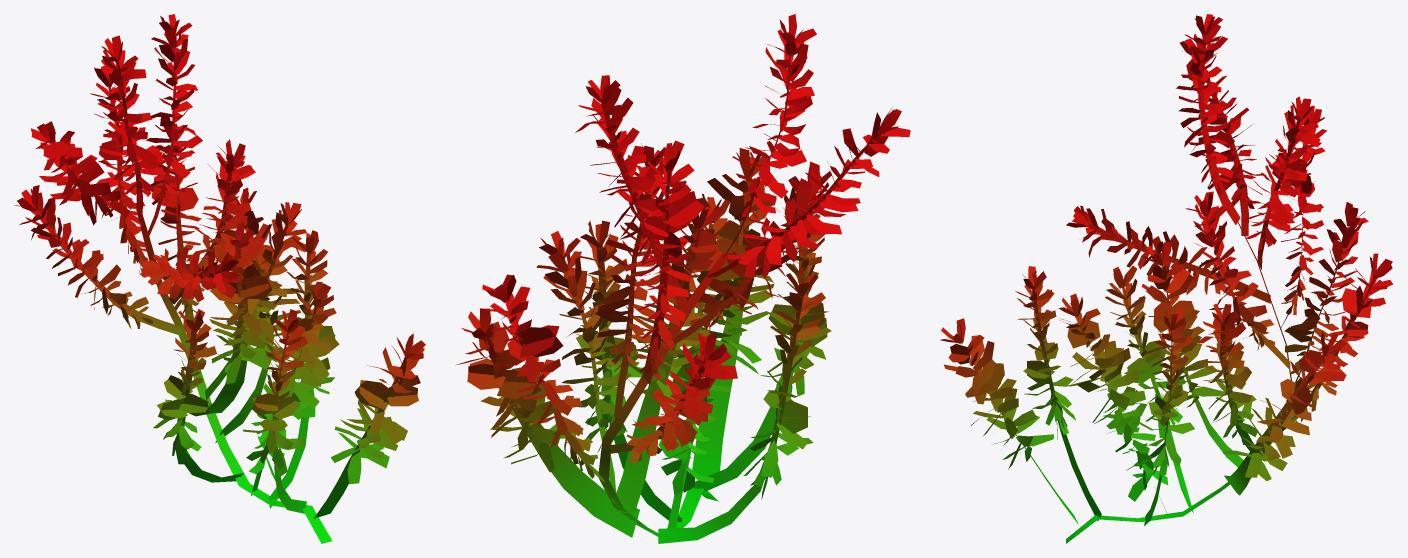
Rendered from Var1_LOD2.fbx.
3 views of the same model, side by side, from view 1: azimuth 30°, elevation 25°; view 2: azimuth 150°, elevation 25°; view 3: azimuth 270°, elevation 25° (orthographic). The views are drawn at different scales.
Parts seen in each view (by area): view 1: _eq5g_Var1_LOD2; view 2: _eq5g_Var1_LOD2; view 3: _eq5g_Var1_LOD2.
Part boxes in pixels (box(x1,y1,x2,y2)): _eq5g_Var1_LOD2: box(14, 14, 425, 543); _eq5g_Var1_LOD2: box(455, 14, 910, 543); _eq5g_Var1_LOD2: box(940, 14, 1392, 543).
Size of the model in its own units: 21.45 by 32.29 by 28.68.
